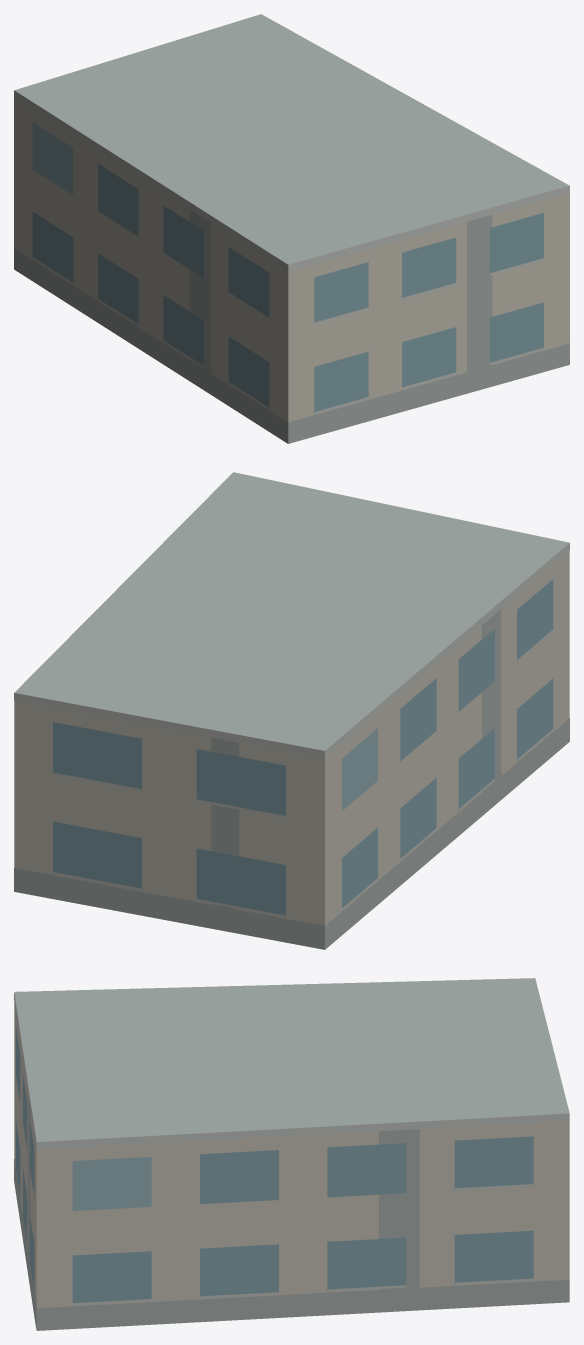
File: survey-upis-32634972.glb
3 renders of one model, top to bottom at view 1: azimuth 30°, elevation 25°; view 2: azimuth 150°, elevation 25°; view 3: azimuth 270°, elevation 25°, orthographic. The views are drawn at different scales.
Parts seen in each view (by area): view 1: survey-upis-32634972.tmp; view 2: survey-upis-32634972.tmp; view 3: survey-upis-32634972.tmp.
Boxes of the visible parts, x1,y1,x2,y2 form: survey-upis-32634972.tmp: [14, 14, 569, 443]; survey-upis-32634972.tmp: [14, 472, 569, 949]; survey-upis-32634972.tmp: [14, 978, 569, 1330].
Bounding box in the file's own units: 11.38 × 6.1 × 16.29.
